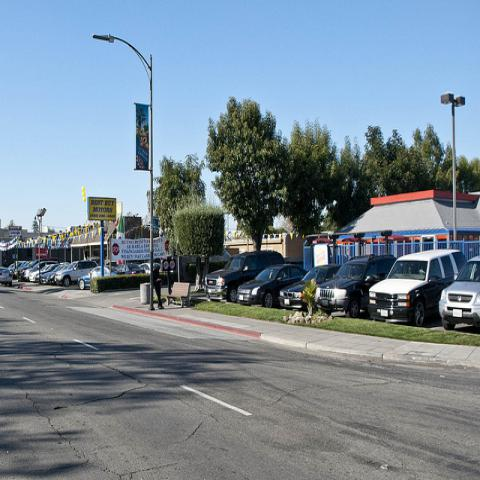car: (367, 248, 467, 329), (314, 253, 396, 318), (204, 249, 287, 304), (238, 263, 312, 308), (279, 262, 342, 312), (441, 256, 479, 330), (77, 266, 126, 290), (55, 260, 99, 286), (46, 265, 68, 284), (36, 265, 59, 282), (117, 262, 146, 274), (0, 264, 14, 287), (29, 267, 39, 282)
